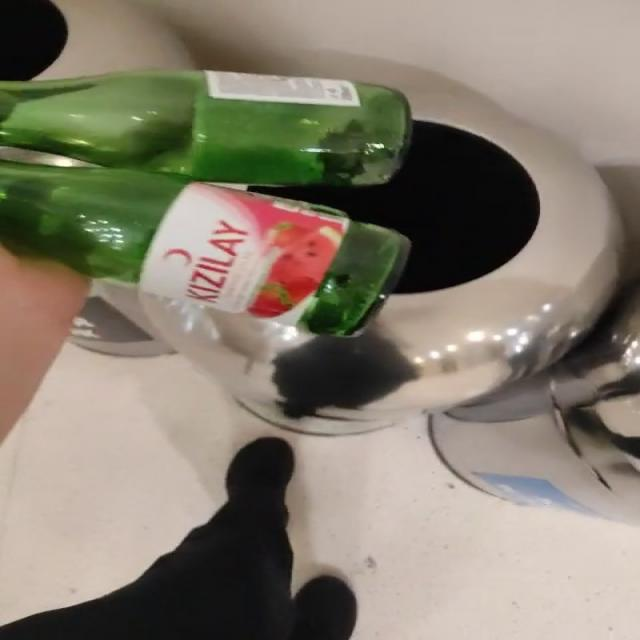glass: (1, 70, 411, 336)
